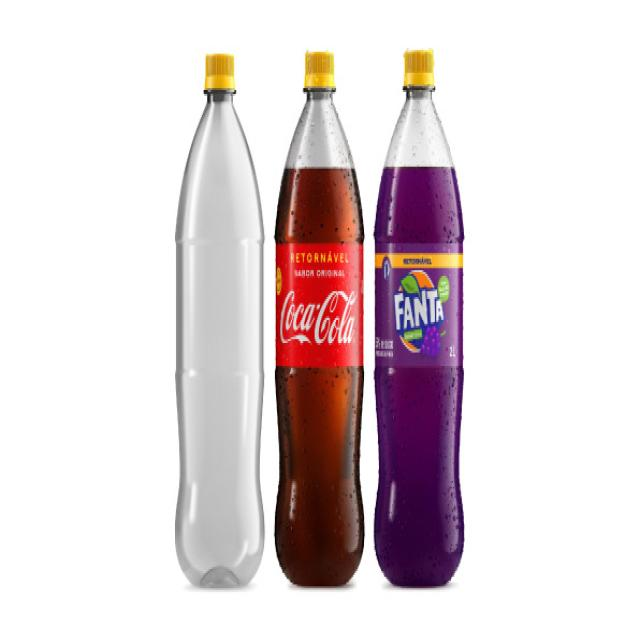bottom: (175, 443, 264, 587), (374, 455, 462, 587), (275, 462, 364, 586)
label: (376, 242, 462, 366), (276, 243, 362, 367)
neck: (375, 49, 464, 251), (275, 51, 364, 242), (176, 56, 262, 240)
